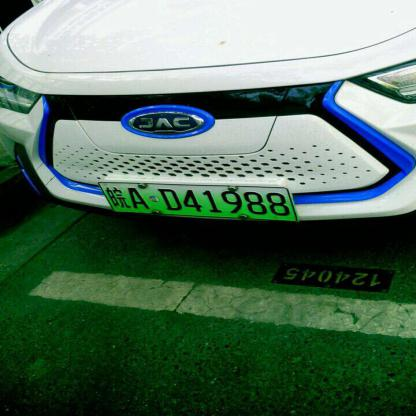lp: (98, 182, 297, 219)
